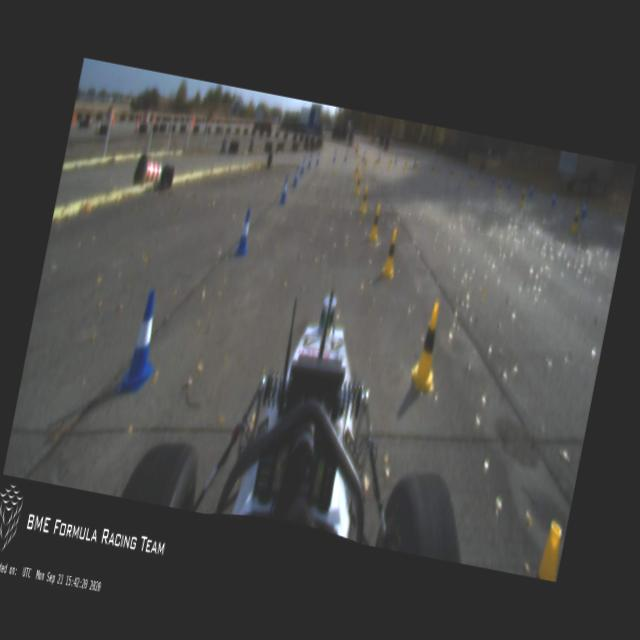blue_cone: (114, 284, 170, 399), (233, 206, 256, 258), (278, 177, 290, 204), (580, 200, 589, 220), (292, 166, 300, 188), (551, 190, 558, 207), (300, 158, 306, 176), (307, 154, 313, 168), (529, 184, 535, 196), (507, 178, 512, 189), (316, 153, 320, 165)
yellow_cone: (408, 300, 451, 396), (380, 226, 402, 281), (368, 202, 384, 242), (358, 183, 372, 215), (571, 208, 582, 232), (355, 173, 363, 194), (518, 188, 526, 208), (496, 180, 504, 197), (354, 162, 359, 180), (470, 174, 474, 186)
